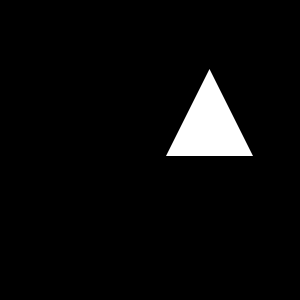triangle: (166, 69, 253, 156)
